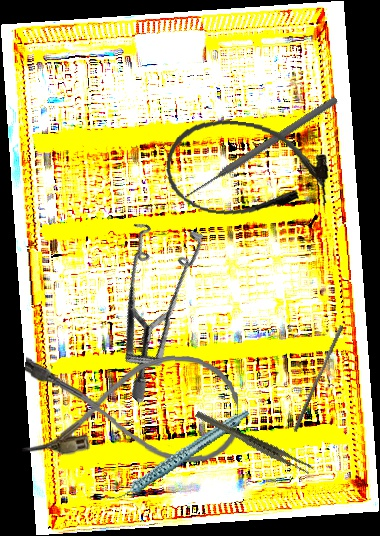Cannula: (22, 350, 240, 464), (159, 113, 336, 227)
Handpiece: (93, 409, 263, 504)
Pusher: (180, 94, 340, 203), (292, 322, 345, 435)
Speculum: (47, 195, 256, 406)
Tissue Forceps: (194, 391, 314, 493)
